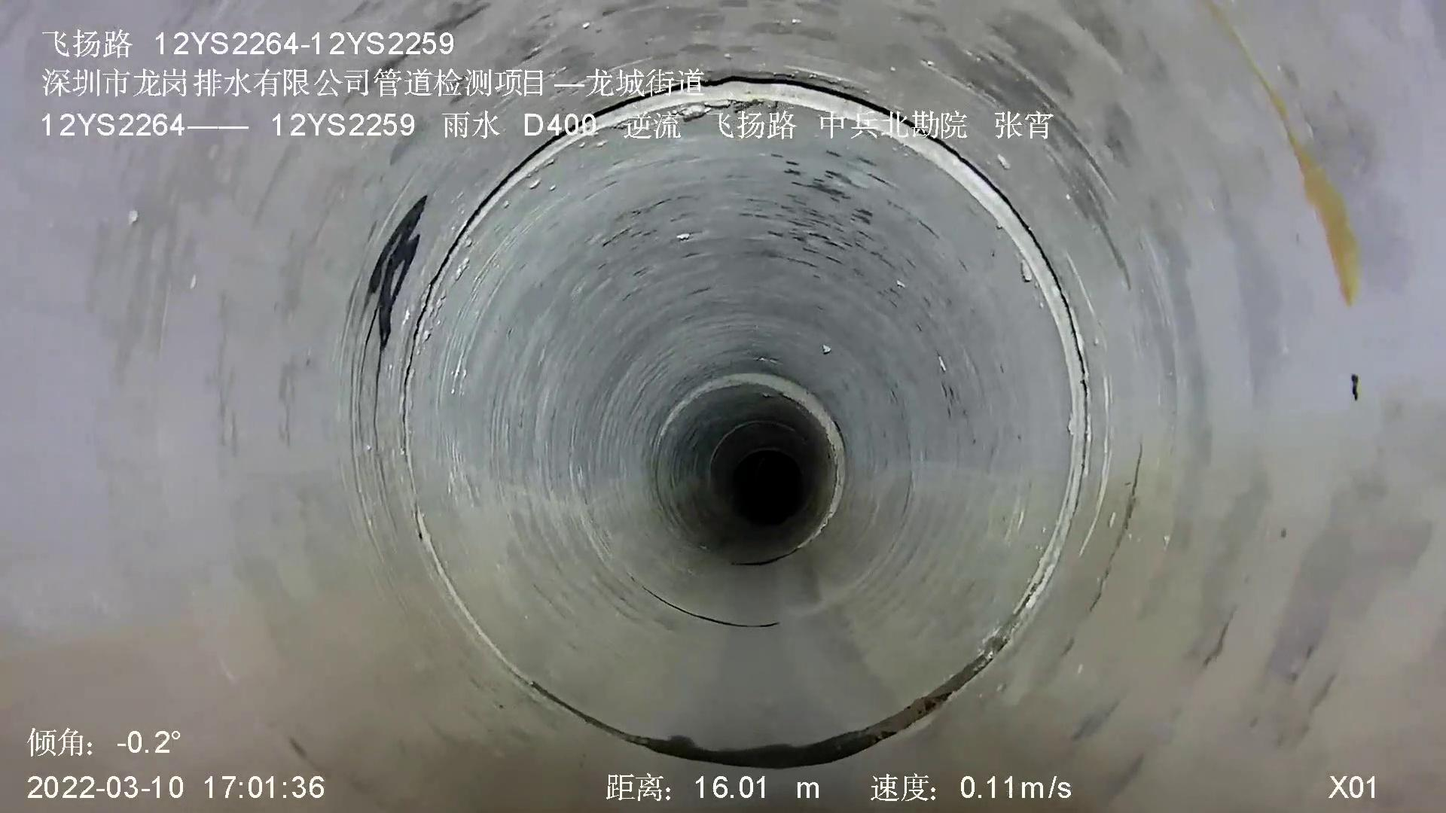CKTJ: (398, 80, 1091, 768), (660, 373, 844, 548)
